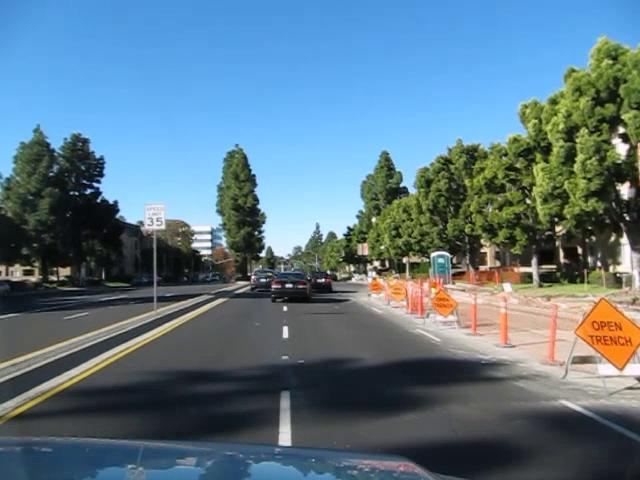speedLimit35: (143, 202, 166, 230)
